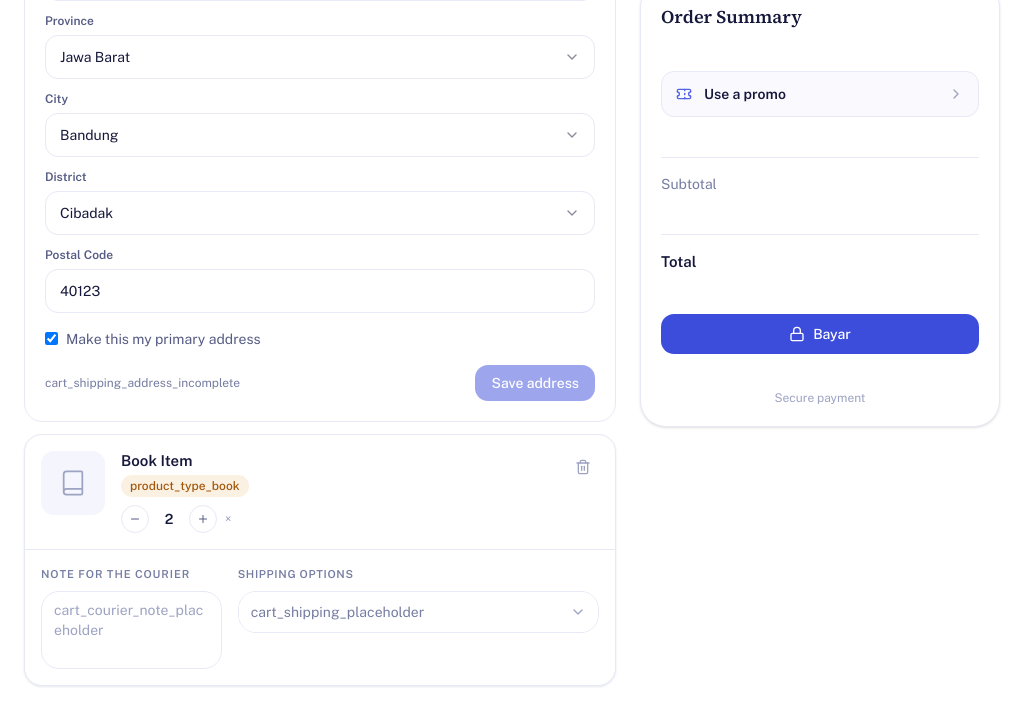
Test: CartPage with Shipping › selecting the second same-carrier service persists that rate, not the first
(page scrolled)
Click the button "cart_shipping_placeholder" at [418, 612], box [239,592,598,632]
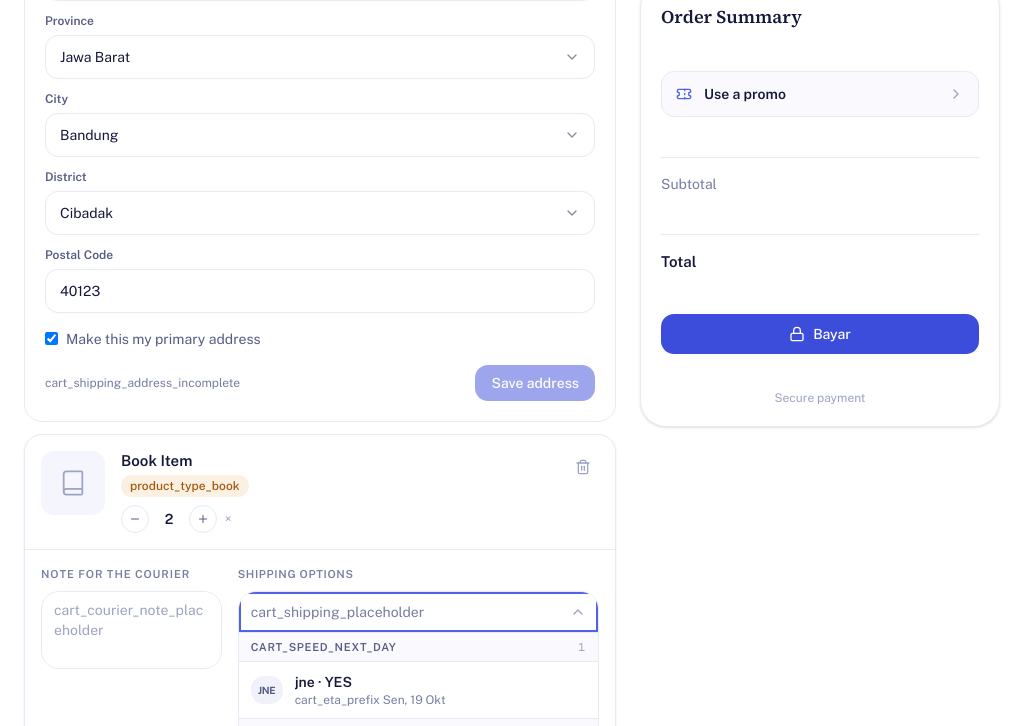
Now the number of radio buttons labelled "JNE" is 2
Click the radio button labelled "YES" at [418, 691], box [239,662,598,719]
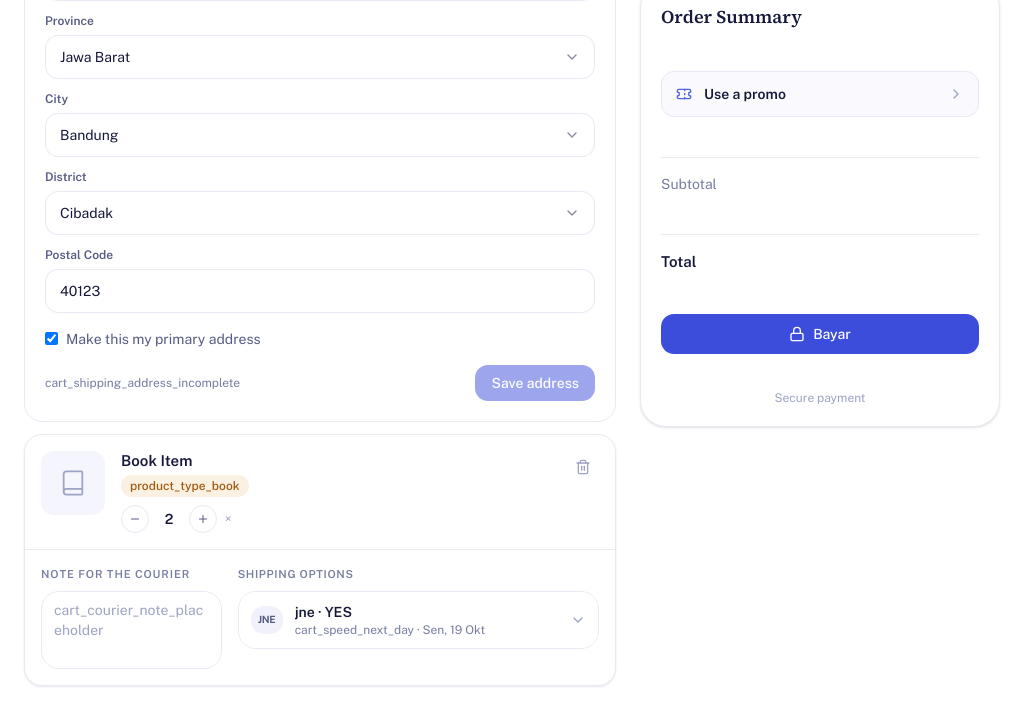
Now no radio buttons are shown
Now the button "YES" is shown, box [239,592,598,648]
